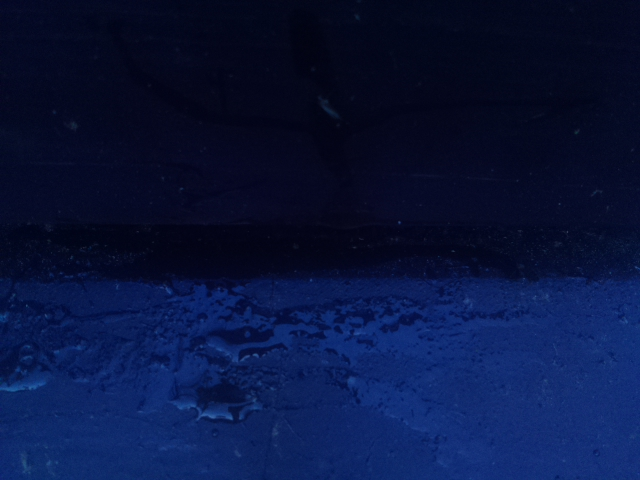ant: (5, 338, 48, 390)
